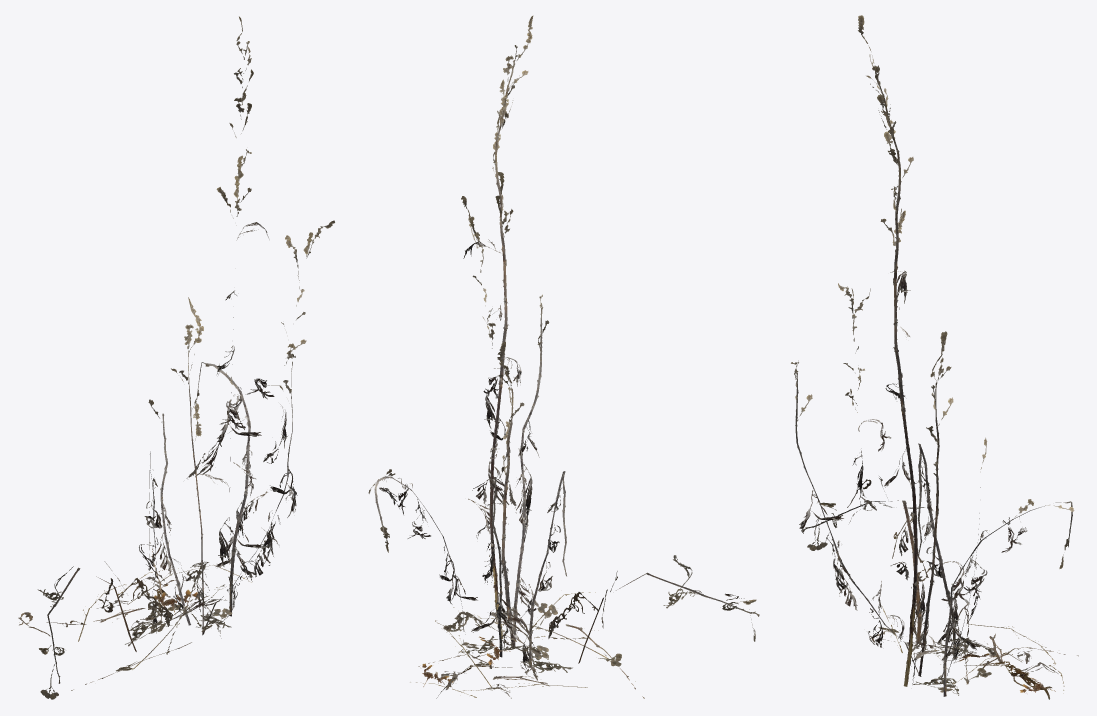
The model's file is desert_reed_1_3.FBX.
3 views of the same model, side by side, from view 1: azimuth 30°, elevation 25°; view 2: azimuth 150°, elevation 25°; view 3: azimuth 270°, elevation 25° (orthographic). The views are drawn at different scales.
Parts seen in each view (by area): view 1: desert_reed_1_3; view 2: desert_reed_1_3; view 3: desert_reed_1_3.
Part boxes in pixels (x1,y1,x2,y2): desert_reed_1_3: [18, 16, 334, 699]; desert_reed_1_3: [368, 15, 759, 698]; desert_reed_1_3: [791, 15, 1078, 699].
Bounding box in the file's own units: 41.62 × 84.02 × 32.38.
1 material, 1 textured.
